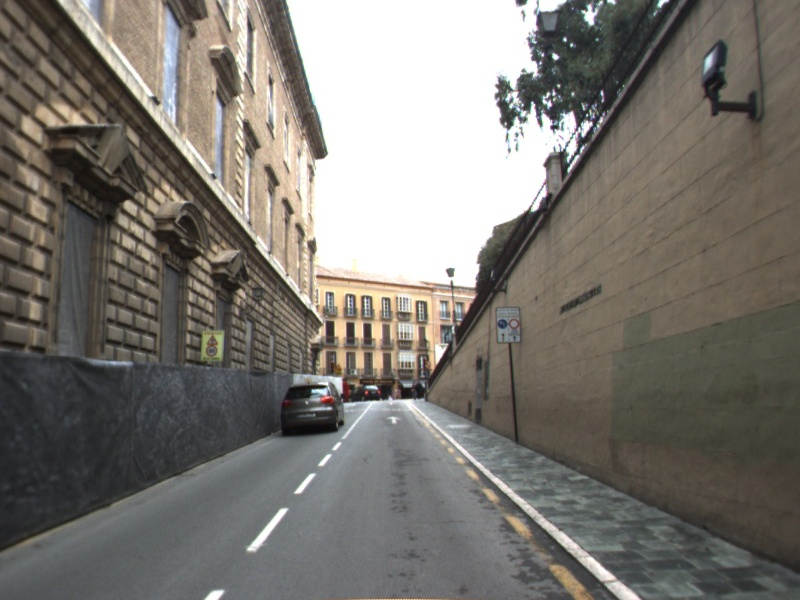STRAIGHT: (384, 414, 404, 426)
